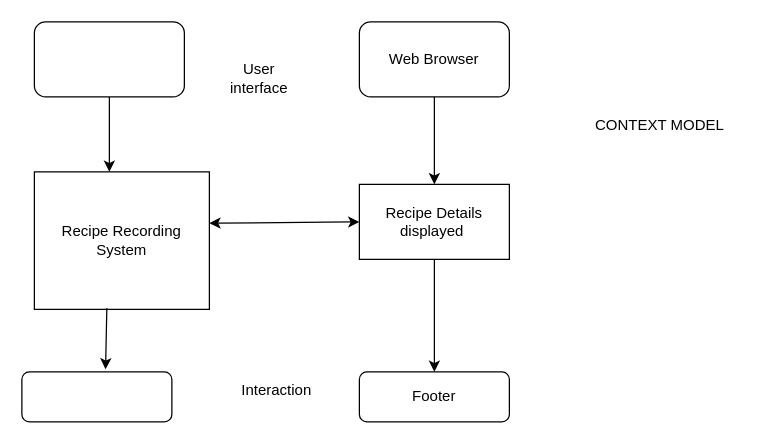
The diagram is 763 pixels wide and 444 high, and some of its shapes have lost their labels. The shapes that lost their labels are listed below. From the top down, each one's centre as x and y in pixels, then its label:
At point 108,59: "User".
At point 96,396: "Navigation Bar".
